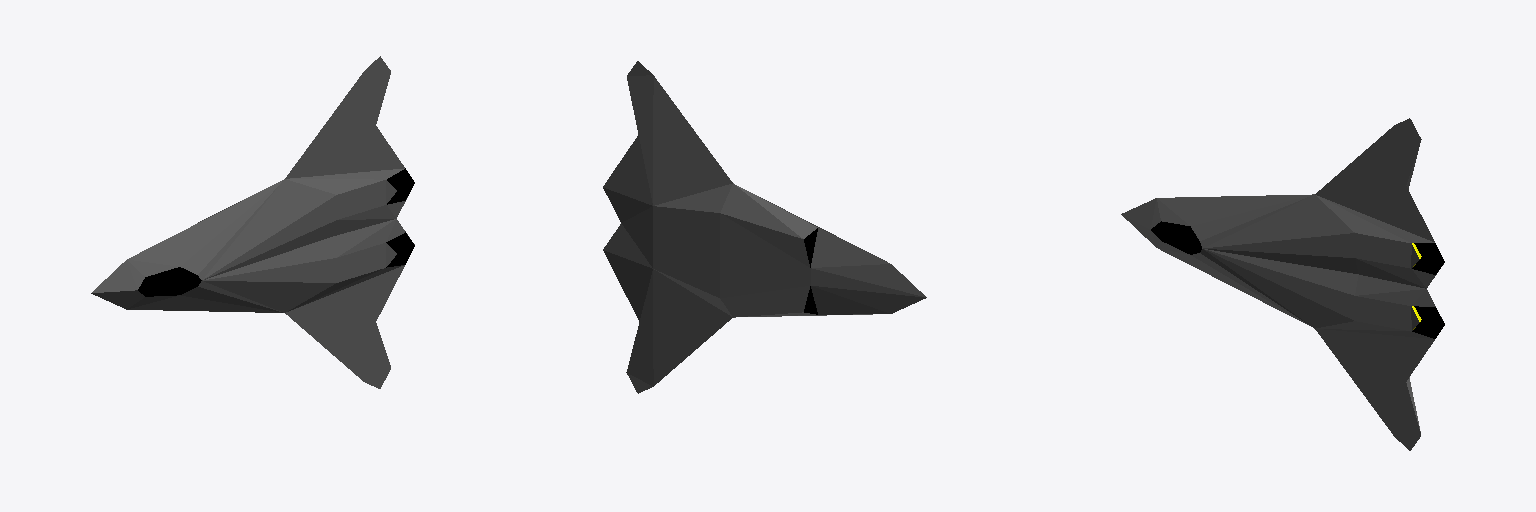
The model's file is stealth.obj.
3 views of the same model, side by side, from view 1: azimuth 30°, elevation 25°; view 2: azimuth 150°, elevation 25°; view 3: azimuth 330°, elevation 25° (orthographic).
Bounding box in the file's own units: 2707 × 2658 × 341.